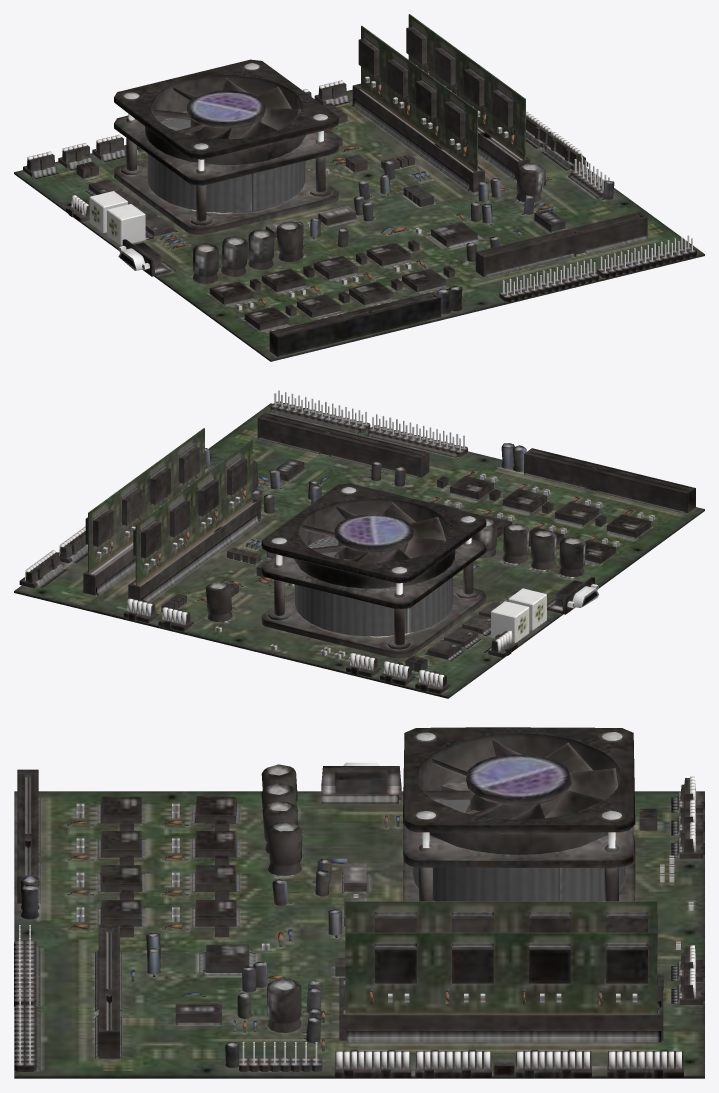
The model's file is circuit-board.glb.
The picture shows the model from 3 angles, top to bottom: view 1: azimuth 30°, elevation 25°; view 2: azimuth 150°, elevation 25°; view 3: azimuth 270°, elevation 25°; orthographic projection. The views are drawn at different scales.
Visible parts, largest first — view 1: circuit_board; view 2: circuit_board; view 3: circuit_board.
Part boxes in pixels (left/top/right/bottom): circuit_board: left=14, top=14, right=704, bottom=361; circuit_board: left=14, top=390, right=704, bottom=698; circuit_board: left=14, top=727, right=704, bottom=1078.
Size of the model in its own units: 0.4035 by 0.0783 by 0.3974.
Materials: 2 (2 with a texture image).
